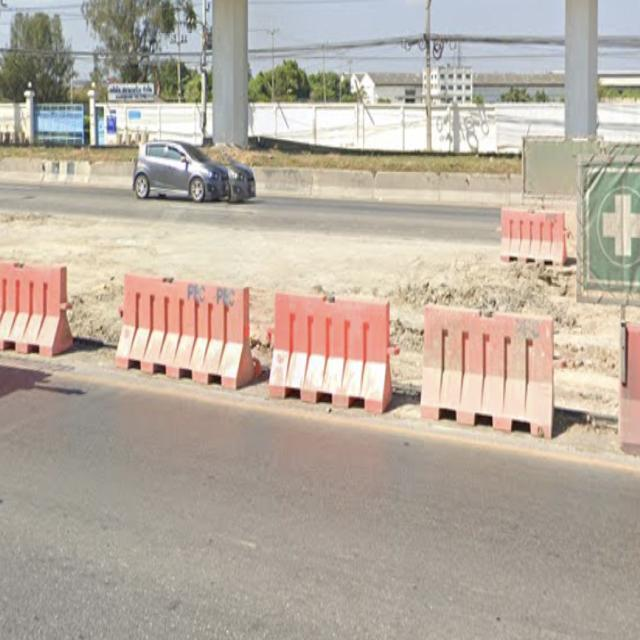fallen_object: (99, 240, 261, 404), (412, 293, 565, 457), (253, 280, 394, 420), (0, 239, 75, 368), (483, 195, 578, 285)
